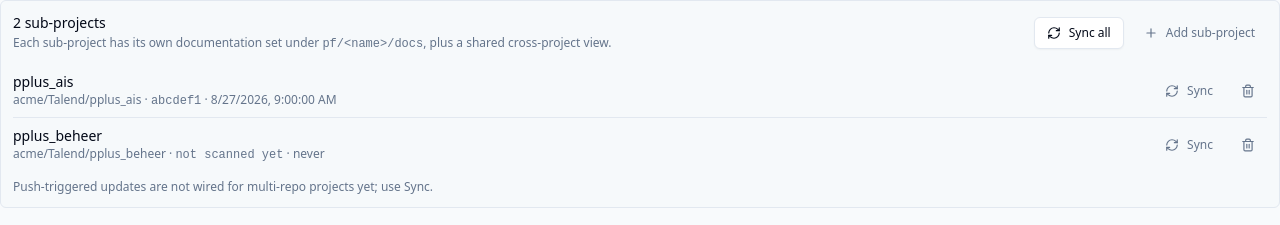
Scenario: MultiRepoMembersPanel › abandons a removal when Keep is chosen
Expected: the text "pplus_ais" is shown, [13,72,74,91]
Click the button named "Remove pplus_ais" at (1248, 90), box [1229,74,1267,106]
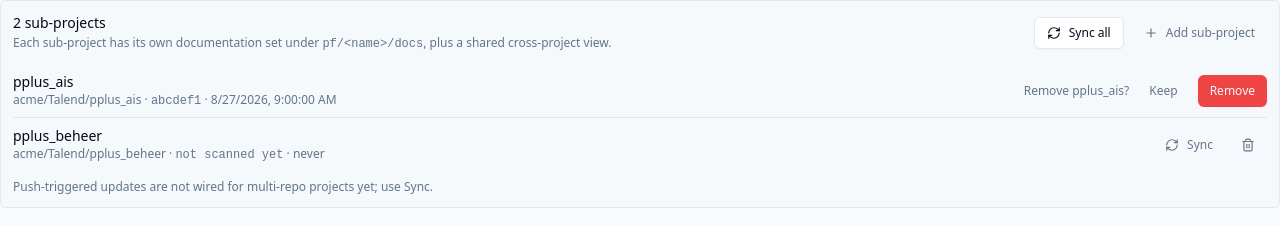
Click the button "Keep" at (1164, 90), box [1137,74,1190,106]
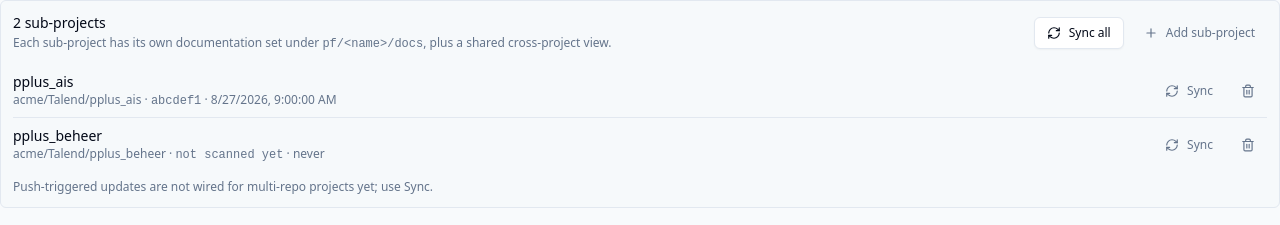
Now the text "Remove pplus_ais?" is gone
